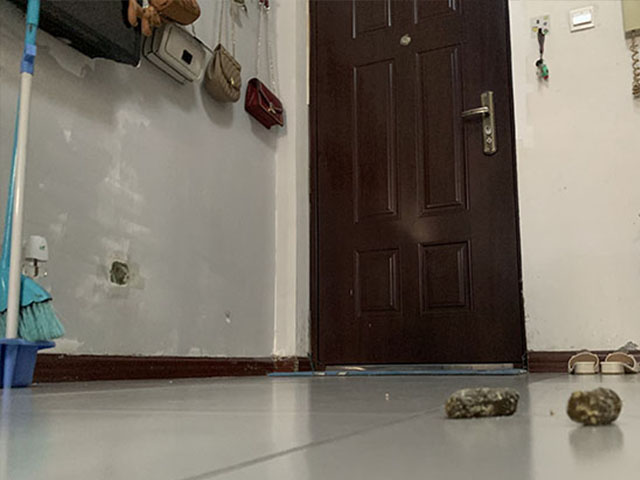carpet: (263, 366, 530, 376)
feces: (443, 385, 521, 419), (564, 386, 623, 426)
slippers: (564, 348, 600, 377), (602, 348, 639, 376)
